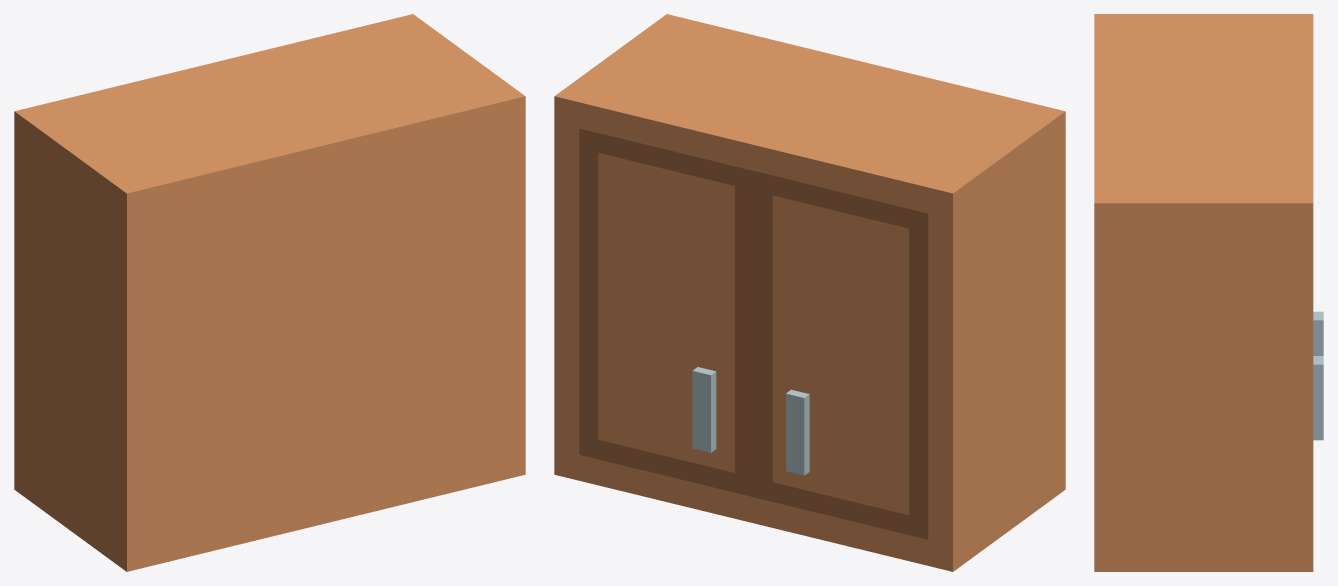
File: Kitchen Cabinet-jRPnkxtk8s.glb
3 views of the same model, side by side, from view 1: azimuth 30°, elevation 25°; view 2: azimuth 150°, elevation 25°; view 3: azimuth 270°, elevation 25° (orthographic). The views are drawn at different scales.
Parts seen in each view (by area): view 1: kitchenCabinetUpperDouble; view 2: kitchenCabinetUpperDouble, doorRight, doorLeft; view 3: kitchenCabinetUpperDouble, doorLeft, doorRight.
Boxes of the visible parts, x1,y1,x2,y2 form: kitchenCabinetUpperDouble: (14,14,525,571); kitchenCabinetUpperDouble: (554,14,1065,571); doorRight: (753,171,928,539); doorLeft: (579,128,753,496); kitchenCabinetUpperDouble: (1094,14,1313,571); doorLeft: (1313,356,1323,440); doorRight: (1313,311,1323,355).
Size of the model in its own units: 0.43 by 0.39 by 0.22.
